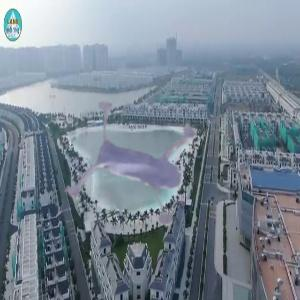drone: (31, 68, 243, 280)
